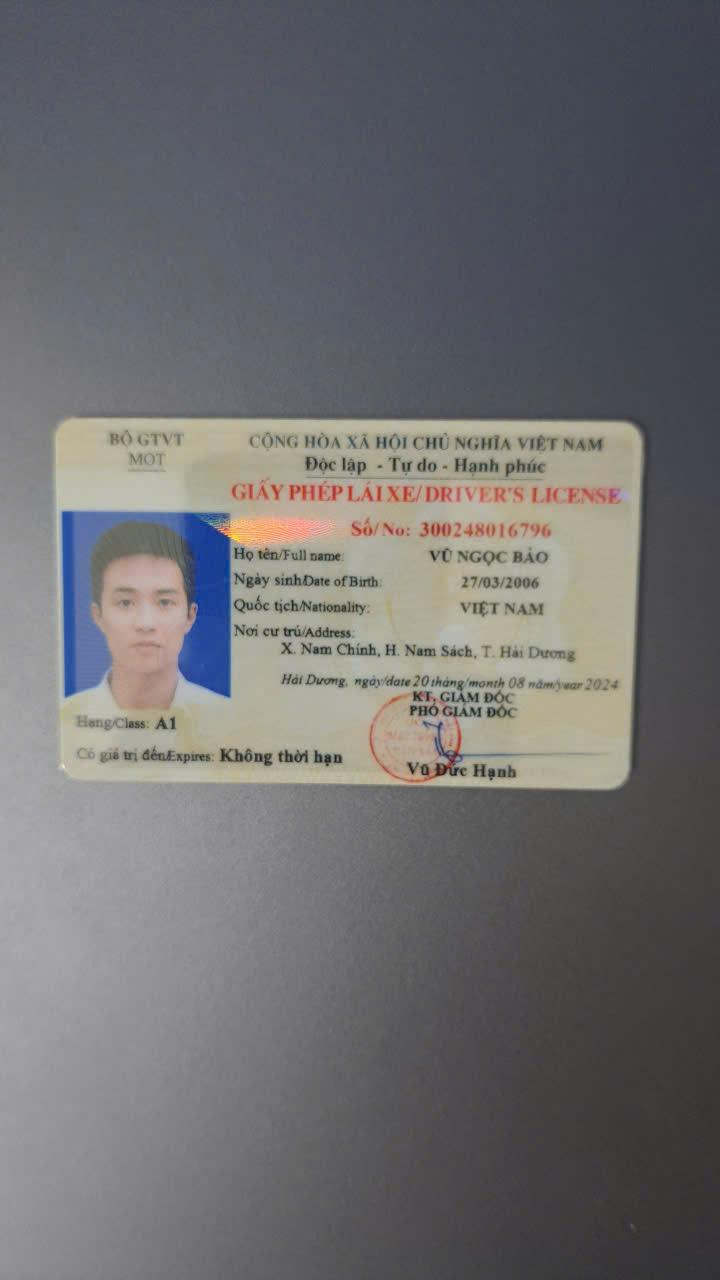gplx: (46, 413, 652, 800)
